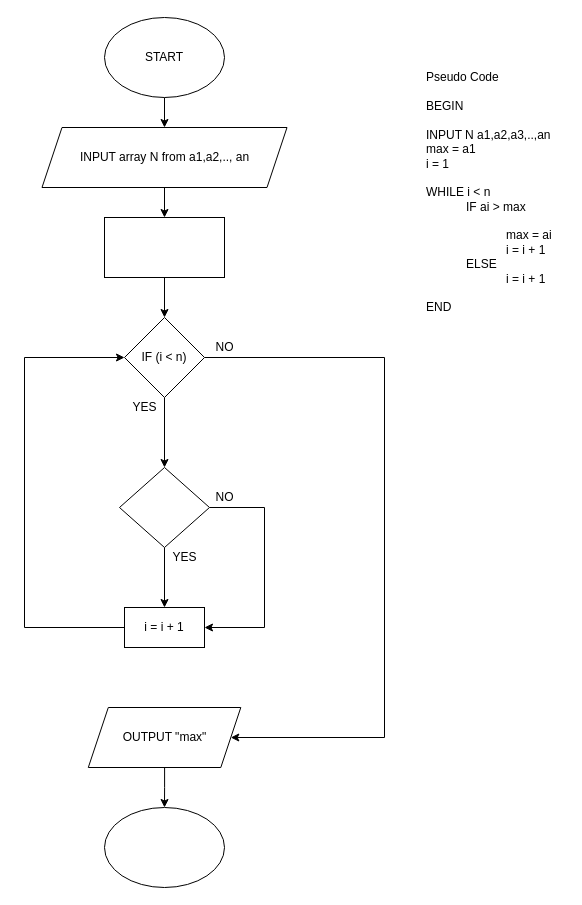
Some shapes in this 582 by 905 pixel diagram are drawn without their labels. The box of each missing label's shape, as (x1, y1, x2, y2) in pixels:
END: (104, 806, 224, 888)
IF (ai > max): (118, 466, 210, 548)
max = a1 i = 1: (104, 216, 224, 278)
